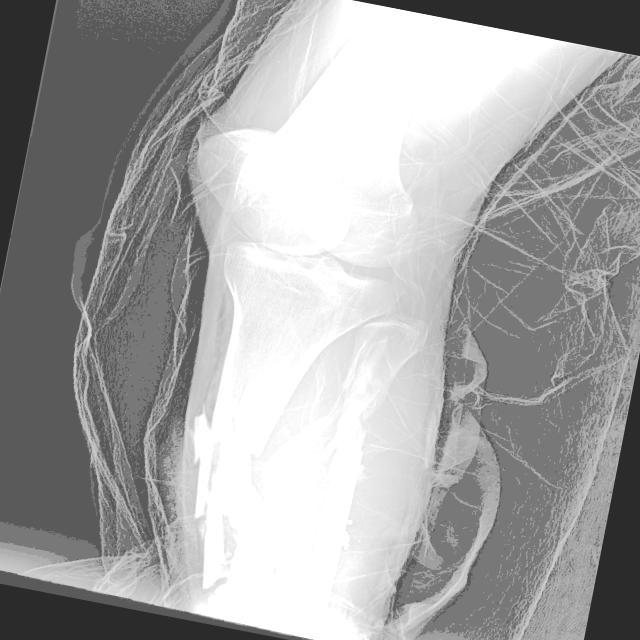Comminuted Fracture: (178, 419, 259, 525), (185, 534, 258, 592)
